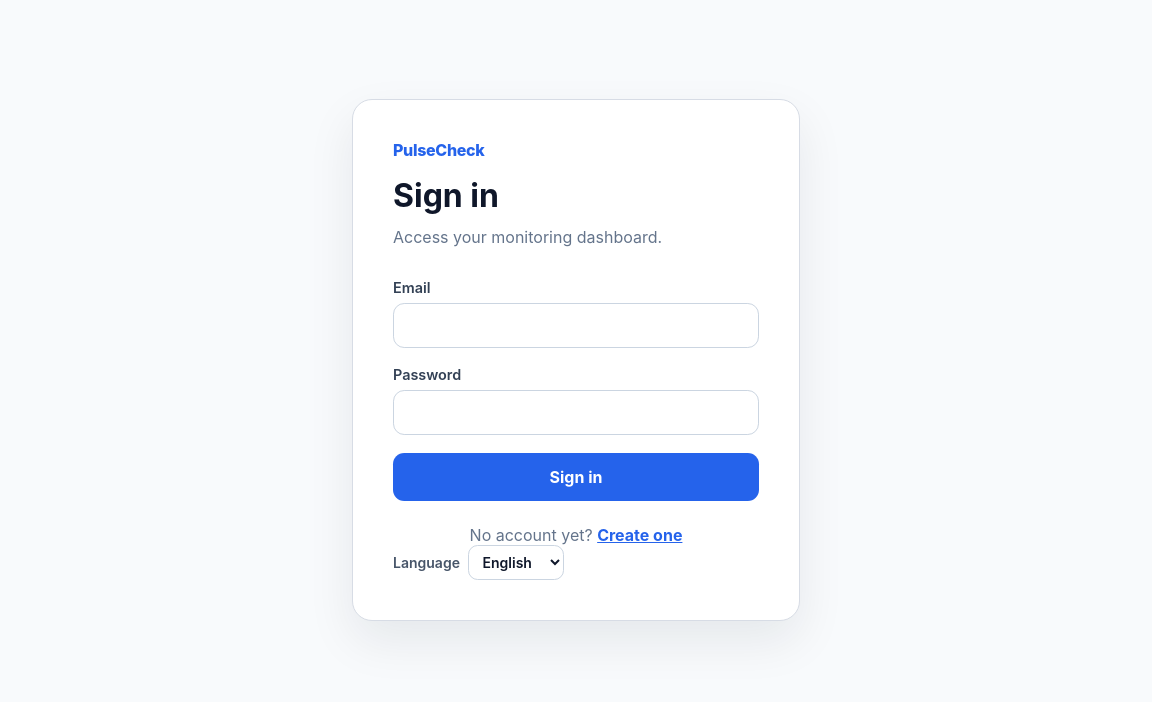
authentication flow › signs in and enters the protected dashboard
expect the heading "Sign in" is shown: met, box left=393, top=176, right=499, bottom=215
Type "user@example.com" into the field labelled "Email".
click(576, 326); type("user@example.com")  # box left=393, top=303, right=759, bottom=348
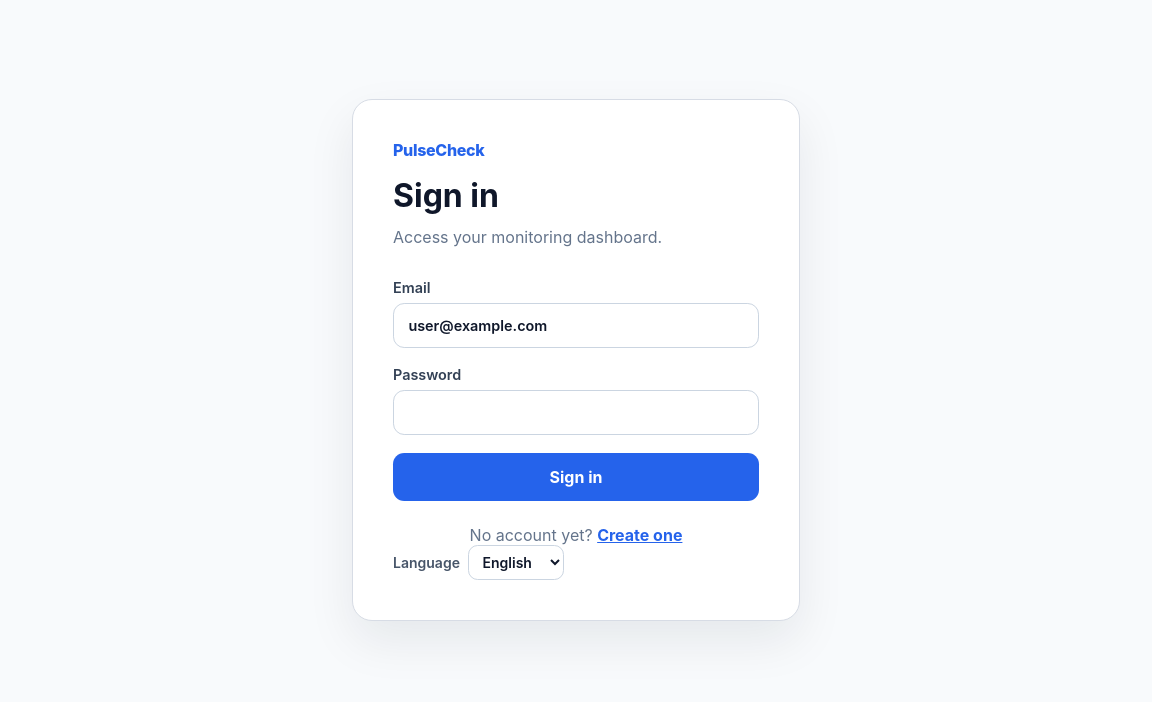
Type "Rugged-Pulse-2026!" into the password field labelled "Password".
click(576, 413); type("Rugged-Pulse-2026!")  # box left=393, top=390, right=759, bottom=435
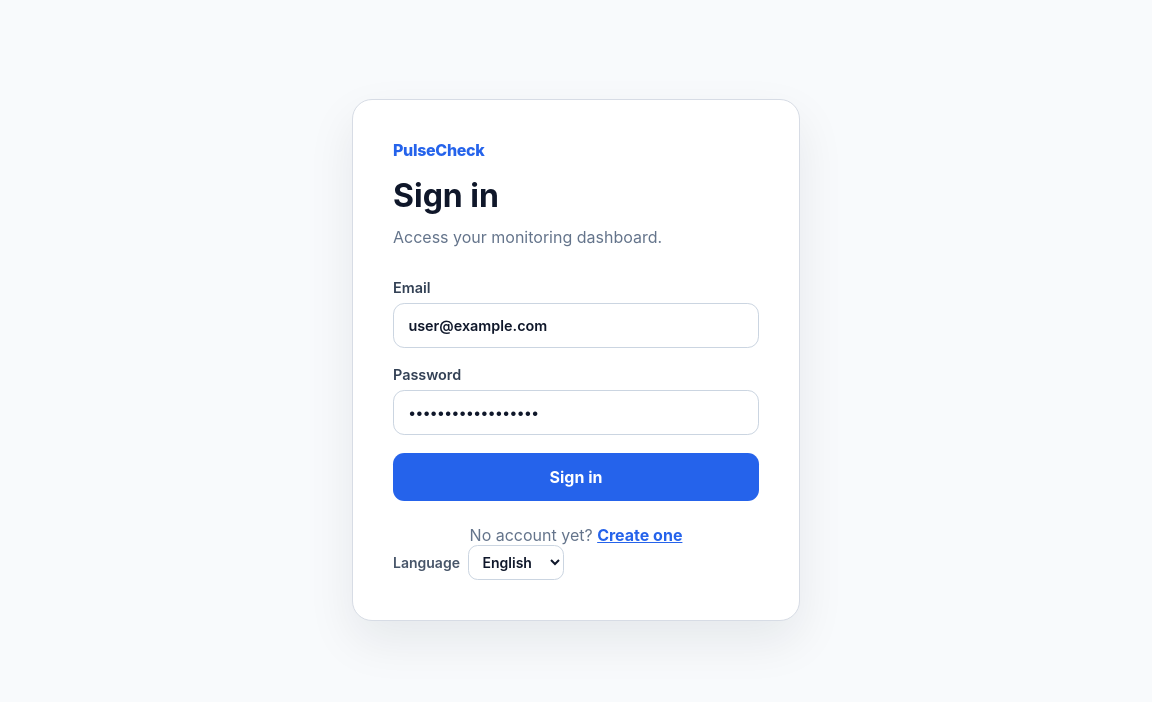
Click the button "Sign in".
click(576, 477)  # box left=393, top=453, right=759, bottom=501
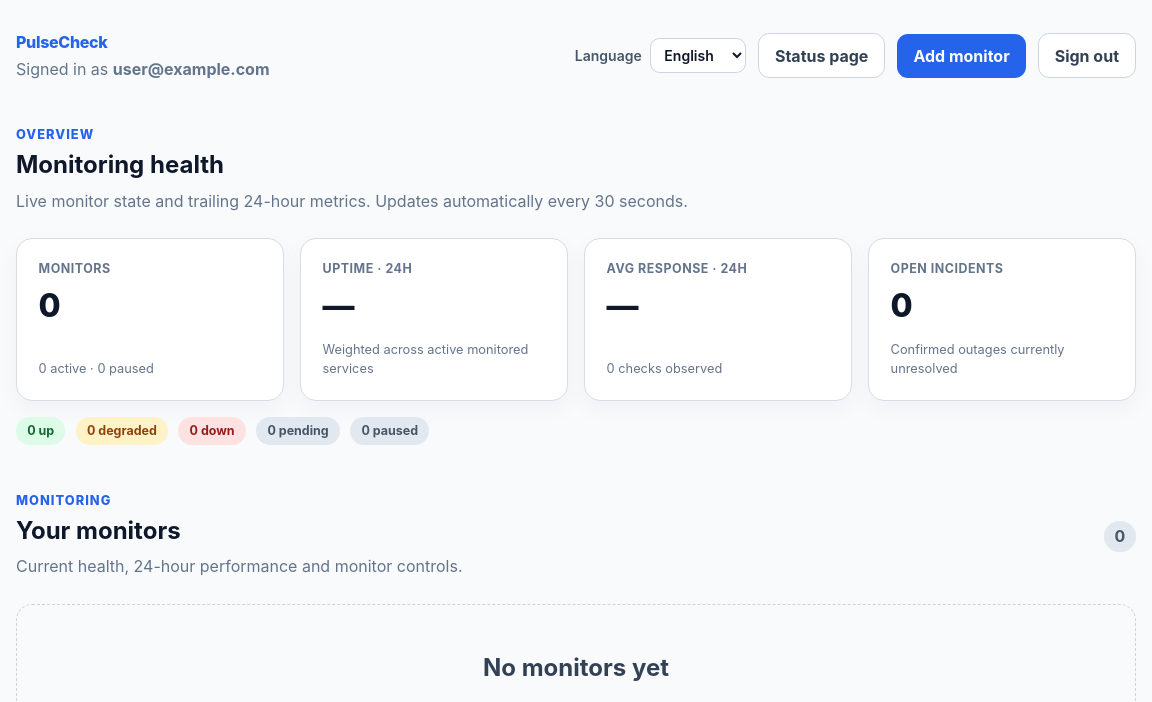
expect the text "user@example.com" is shown: met, box left=113, top=59, right=270, bottom=79
expect the heading "Your monitors" is shown: met, box left=16, top=516, right=181, bottom=545
